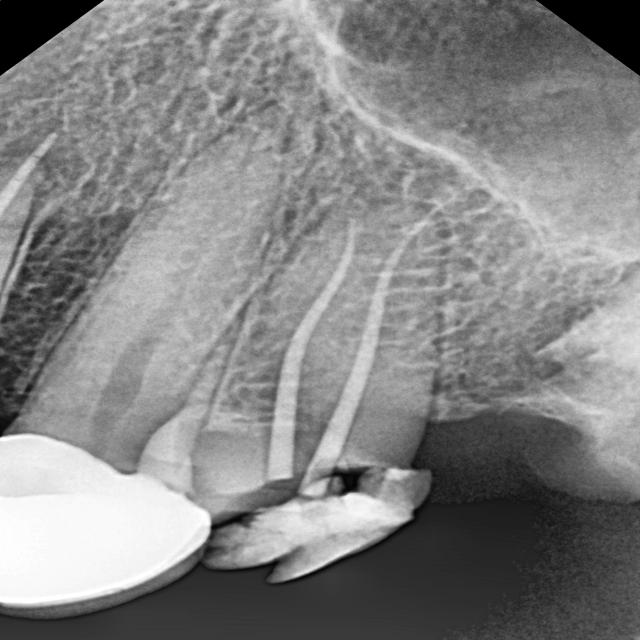RCT: (283, 197, 496, 337)
